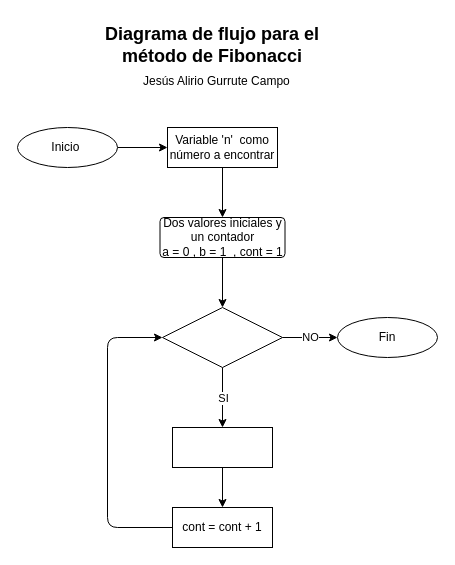
This 455x565 diagram has some shape labels left out. Here are the shapes that lost their labels. From the top down, the box of each, then its label:
(162, 306, 282, 368): ¿cont <= n?
(172, 426, 272, 468): aux = a+b a =b b = aux
